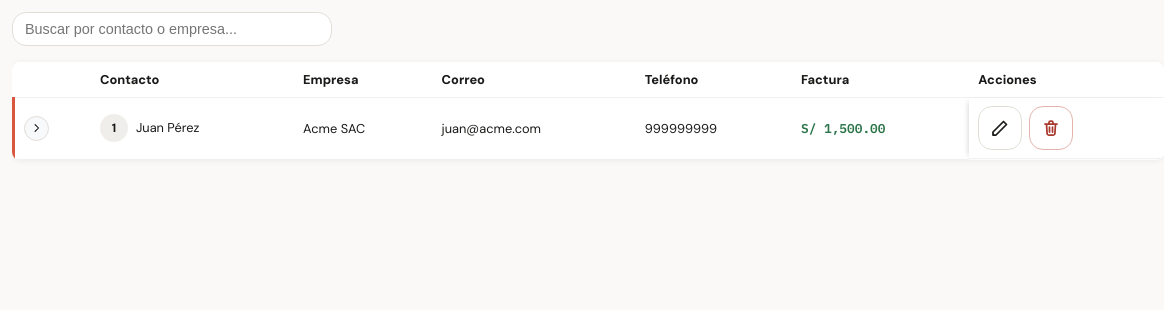
it: LeadsTable › asigna la clase --rechazado cuando el lead tiene rechazo_at y no conversion_at
Click the button with class "leads-table__boton-expandir": (37, 128) x1=24 y1=116 x2=49 y2=141
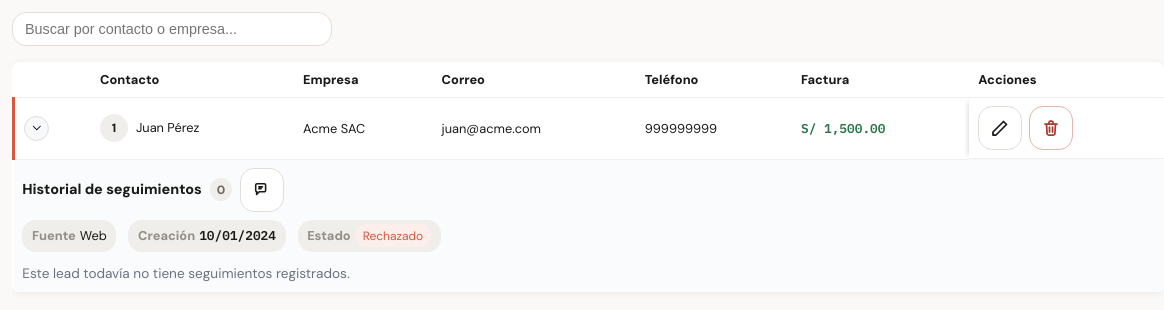
Check: the text "rechazado" is shown, box x1=355 y1=224 x2=431 y2=247
